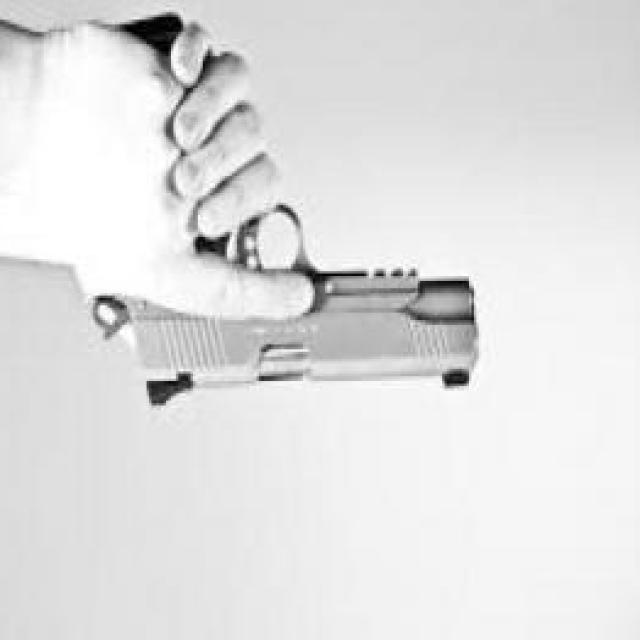pistol: (78, 3, 485, 444)
